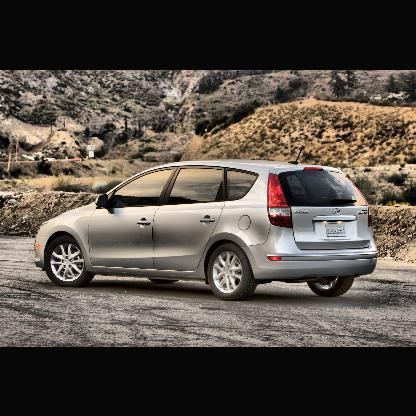Hyundai Elantra Touring Hatchback 2012: (35, 144, 380, 299)
